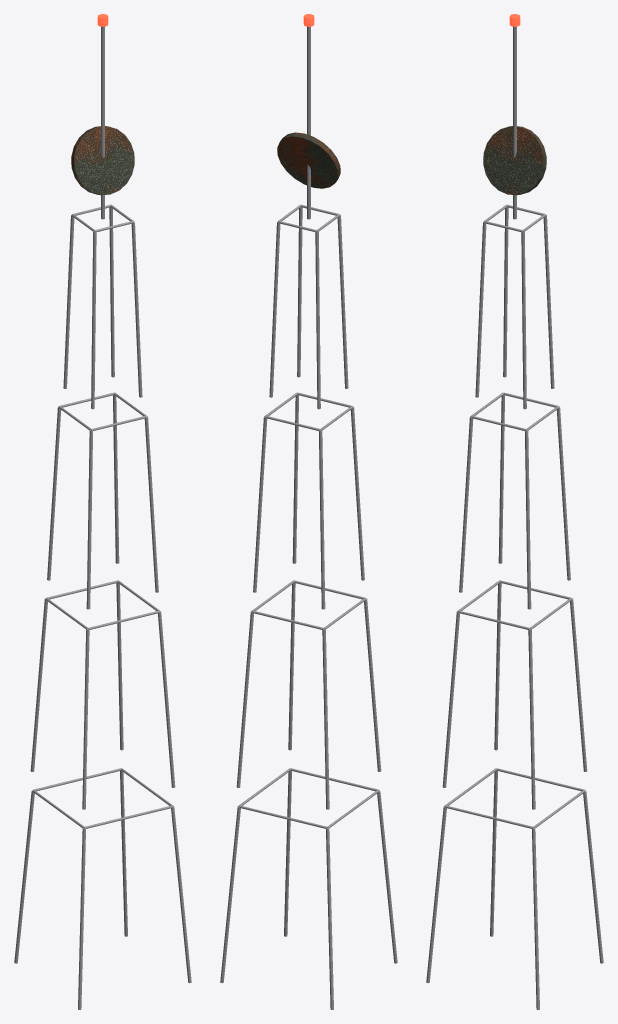
Rendered from antenna.glb.
3 views of the same model, side by side, from view 1: azimuth 30°, elevation 25°; view 2: azimuth 150°, elevation 25°; view 3: azimuth 330°, elevation 25° (orthographic).
Parts seen in each view (by area): view 1: Dish, Leg_5.0_-0.775_-0.775, Leg_1.0_-0.955_-0.955, Leg_9.0_-0.595_-0.595, Leg_13.0_-0.41500000000000004_-0.41500000000000004, Leg_1.0_0.955_-0.955, Leg_5.0_0.775_-0.775, Leg_13.0_0.41500000000000004_-0.41500000000000004, Leg_9.0_0.595_-0.595, Leg_9.0_-0.595_0.595, Leg_1.0_-0.955_0.955, Leg_13.0_-0.41500000000000004_0.41500000000000004 (+6 smaller); view 2: Dish, Leg_5.0_-0.775_0.775, Leg_1.0_-0.955_0.955, Leg_9.0_-0.595_0.595, Leg_13.0_-0.41500000000000004_0.41500000000000004, Leg_1.0_0.955_0.955, Leg_5.0_0.775_0.775, Leg_13.0_0.41500000000000004_0.41500000000000004, Leg_9.0_0.595_0.595, Leg_9.0_-0.595_-0.595, Leg_13.0_-0.41500000000000004_-0.41500000000000004, Leg_1.0_-0.955_-0.955 (+6 smaller); view 3: Dish, Leg_5.0_0.775_-0.775, Leg_1.0_0.955_-0.955, Leg_9.0_0.595_-0.595, Leg_13.0_0.41500000000000004_-0.41500000000000004, Leg_1.0_-0.955_-0.955, Leg_5.0_-0.775_-0.775, Leg_13.0_-0.41500000000000004_-0.41500000000000004, Leg_9.0_-0.595_-0.595, Leg_9.0_0.595_0.595, Leg_13.0_0.41500000000000004_0.41500000000000004, Leg_1.0_0.955_0.955 (+6 smaller).
Part boxes in pixels (left/top/right/bottom): Dish: left=71, top=126, right=134, bottom=195; Leg_5.0_-0.775_-0.775: left=82, top=629, right=89, bottom=809; Leg_1.0_-0.955_-0.955: left=78, top=828, right=85, bottom=1009; Leg_9.0_-0.595_-0.595: left=86, top=430, right=92, bottom=609; Leg_13.0_-0.41500000000000004_-0.41500000000000004: left=91, top=231, right=96, bottom=409; Leg_1.0_0.955_-0.955: left=171, top=806, right=191, bottom=983; Leg_5.0_0.775_-0.775: left=158, top=611, right=175, bottom=787; Leg_13.0_0.41500000000000004_-0.41500000000000004: left=131, top=221, right=142, bottom=397; Leg_9.0_0.595_-0.595: left=144, top=416, right=158, bottom=592; Leg_9.0_-0.595_0.595: left=47, top=406, right=61, bottom=580; Leg_1.0_-0.955_0.955: left=14, top=790, right=34, bottom=963; Leg_13.0_-0.41500000000000004_0.41500000000000004: left=63, top=214, right=74, bottom=388; Dish: left=277, top=132, right=340, bottom=188; Leg_5.0_-0.775_0.775: left=322, top=629, right=329, bottom=809; Leg_1.0_-0.955_0.955: left=326, top=828, right=333, bottom=1009; Leg_9.0_-0.595_0.595: left=319, top=430, right=325, bottom=609; Leg_13.0_-0.41500000000000004_0.41500000000000004: left=315, top=231, right=320, bottom=409; Leg_1.0_0.955_0.955: left=220, top=806, right=240, bottom=983; Leg_5.0_0.775_0.775: left=236, top=611, right=253, bottom=787; Leg_13.0_0.41500000000000004_0.41500000000000004: left=269, top=221, right=280, bottom=397; Leg_9.0_0.595_0.595: left=253, top=416, right=267, bottom=592; Leg_9.0_-0.595_-0.595: left=350, top=406, right=364, bottom=580; Leg_13.0_-0.41500000000000004_-0.41500000000000004: left=337, top=214, right=348, bottom=388; Leg_1.0_-0.955_-0.955: left=377, top=790, right=397, bottom=963; Dish: left=483, top=126, right=546, bottom=195; Leg_5.0_0.775_-0.775: left=528, top=629, right=535, bottom=809; Leg_1.0_0.955_-0.955: left=532, top=828, right=539, bottom=1009; Leg_9.0_0.595_-0.595: left=525, top=430, right=531, bottom=609; Leg_13.0_0.41500000000000004_-0.41500000000000004: left=521, top=231, right=526, bottom=409; Leg_1.0_-0.955_-0.955: left=426, top=806, right=446, bottom=983; Leg_5.0_-0.775_-0.775: left=442, top=611, right=459, bottom=787; Leg_13.0_-0.41500000000000004_-0.41500000000000004: left=475, top=221, right=486, bottom=397; Leg_9.0_-0.595_-0.595: left=459, top=416, right=473, bottom=592; Leg_9.0_0.595_0.595: left=556, top=406, right=570, bottom=580; Leg_13.0_0.41500000000000004_0.41500000000000004: left=543, top=214, right=554, bottom=388; Leg_1.0_0.955_0.955: left=583, top=790, right=603, bottom=963.
Bounding box in the file's own units: 2.45 × 19.79 × 2.45.
3 materials, 1 textured.
